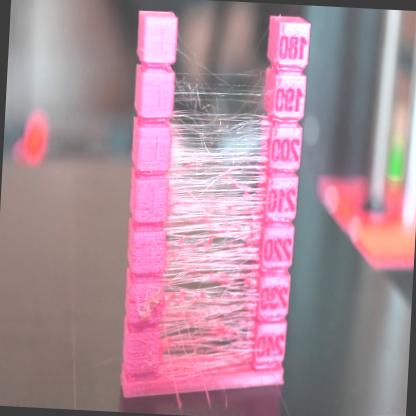fail: (161, 72, 269, 351)
